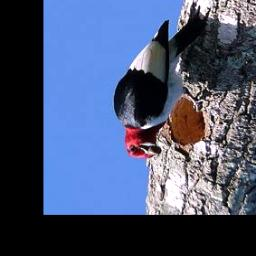Woodpecker: (110, 2, 217, 169)
